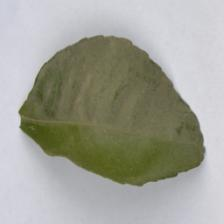healthy: (18, 30, 206, 189)
